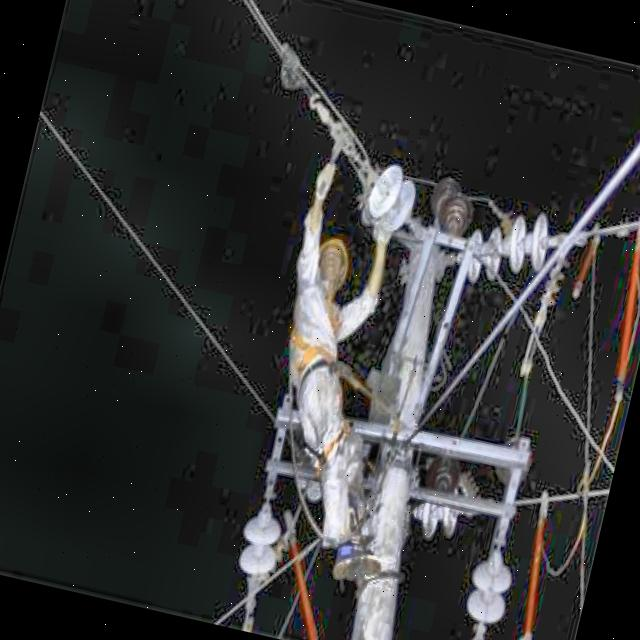helmet: (303, 221, 358, 301)
